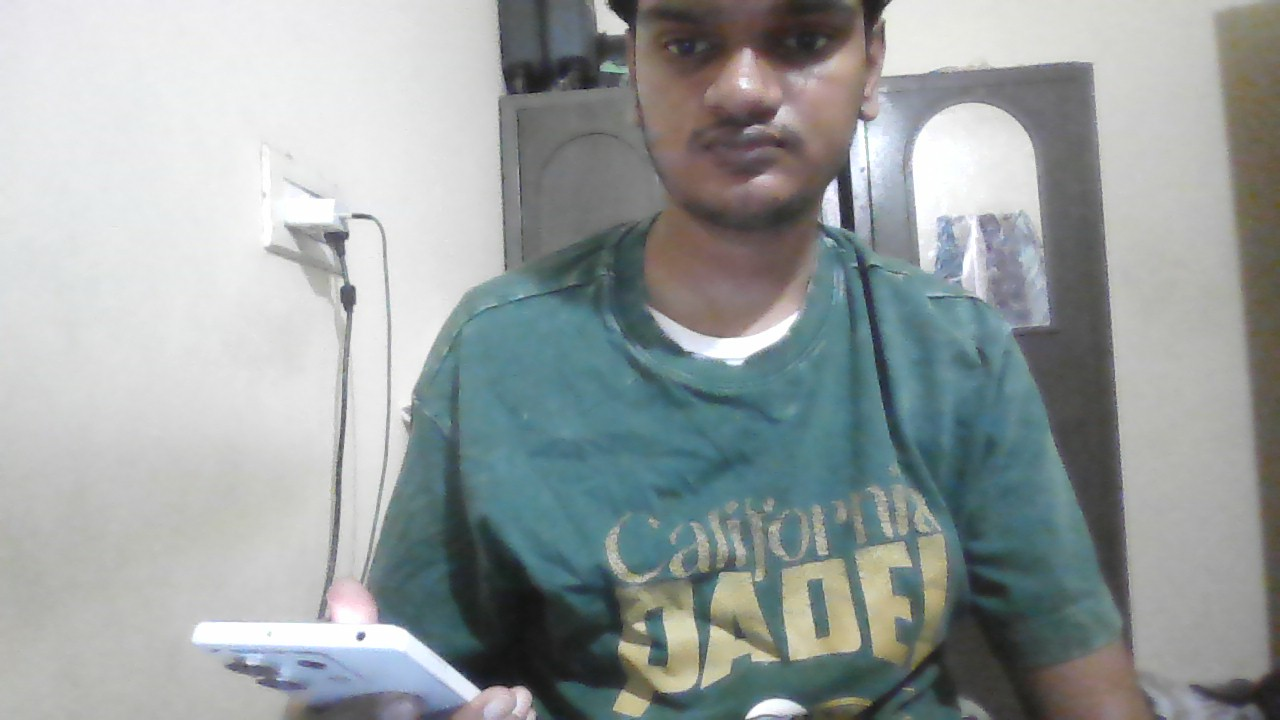phone: (187, 620, 477, 711)
